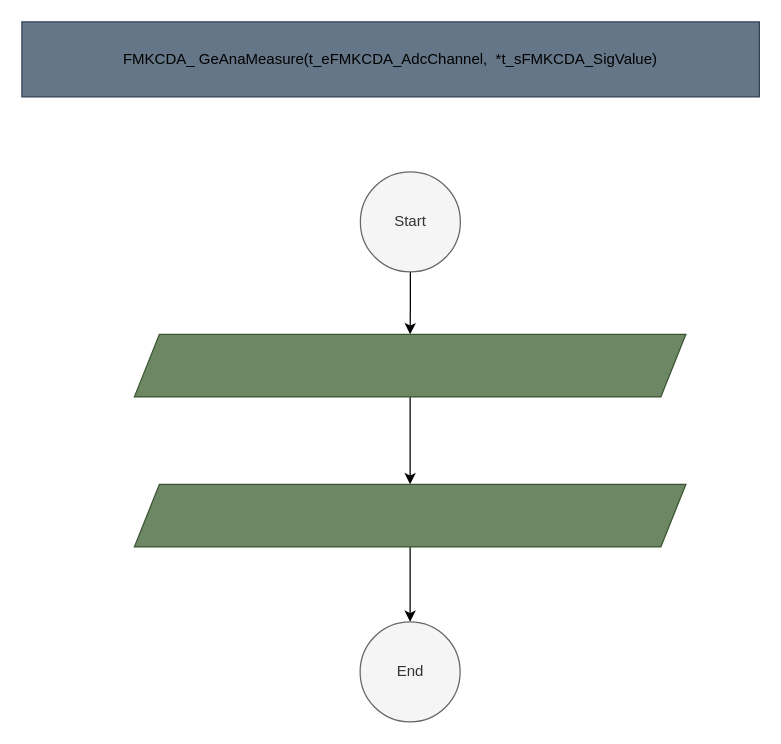
Some shapes in this 781 by 744 pixel diagram are drawn without their labels. Each missing label, with the box of its shape:
Copy values: (133, 483, 686, 547)
Verif Argument: (133, 333, 686, 397)
